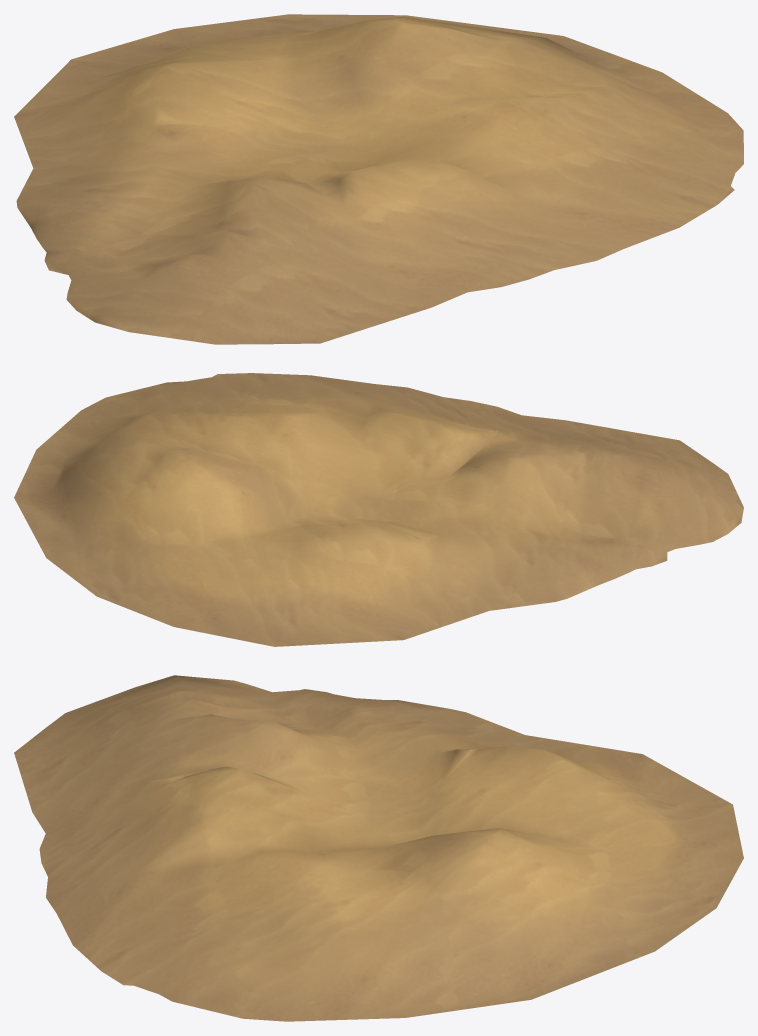
File: Area_15_10.fbx
3 renders of one model, top to bottom at view 1: azimuth 30°, elevation 25°; view 2: azimuth 150°, elevation 25°; view 3: azimuth 270°, elevation 25°, orthographic. The views are drawn at different scales.
Parts seen in each view (by area): view 1: Area_15_10; view 2: Area_15_10; view 3: Area_15_10.
Boxes of the visible parts, x1,y1,x2,y2 form: Area_15_10: (14, 14, 743, 344); Area_15_10: (14, 373, 743, 646); Area_15_10: (14, 675, 743, 1021).
Bounding box in the file's own units: 5768 × 574 × 5188.
Materials: 1 (1 with a texture image).
